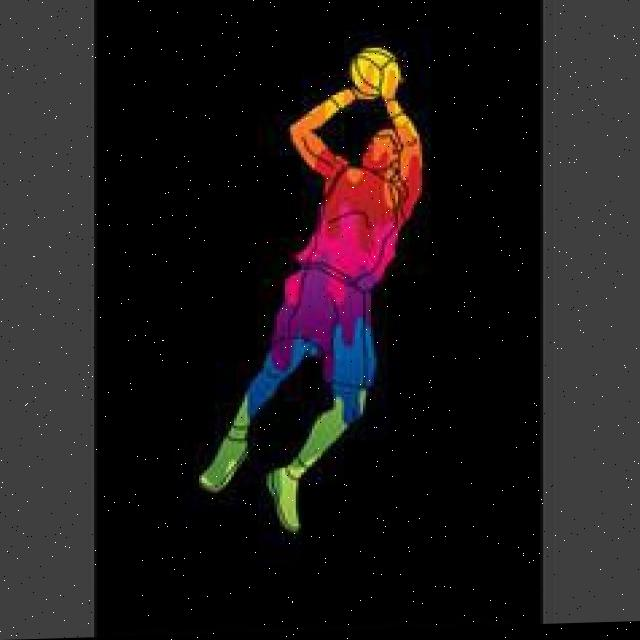Basketball: (350, 47, 400, 97)
